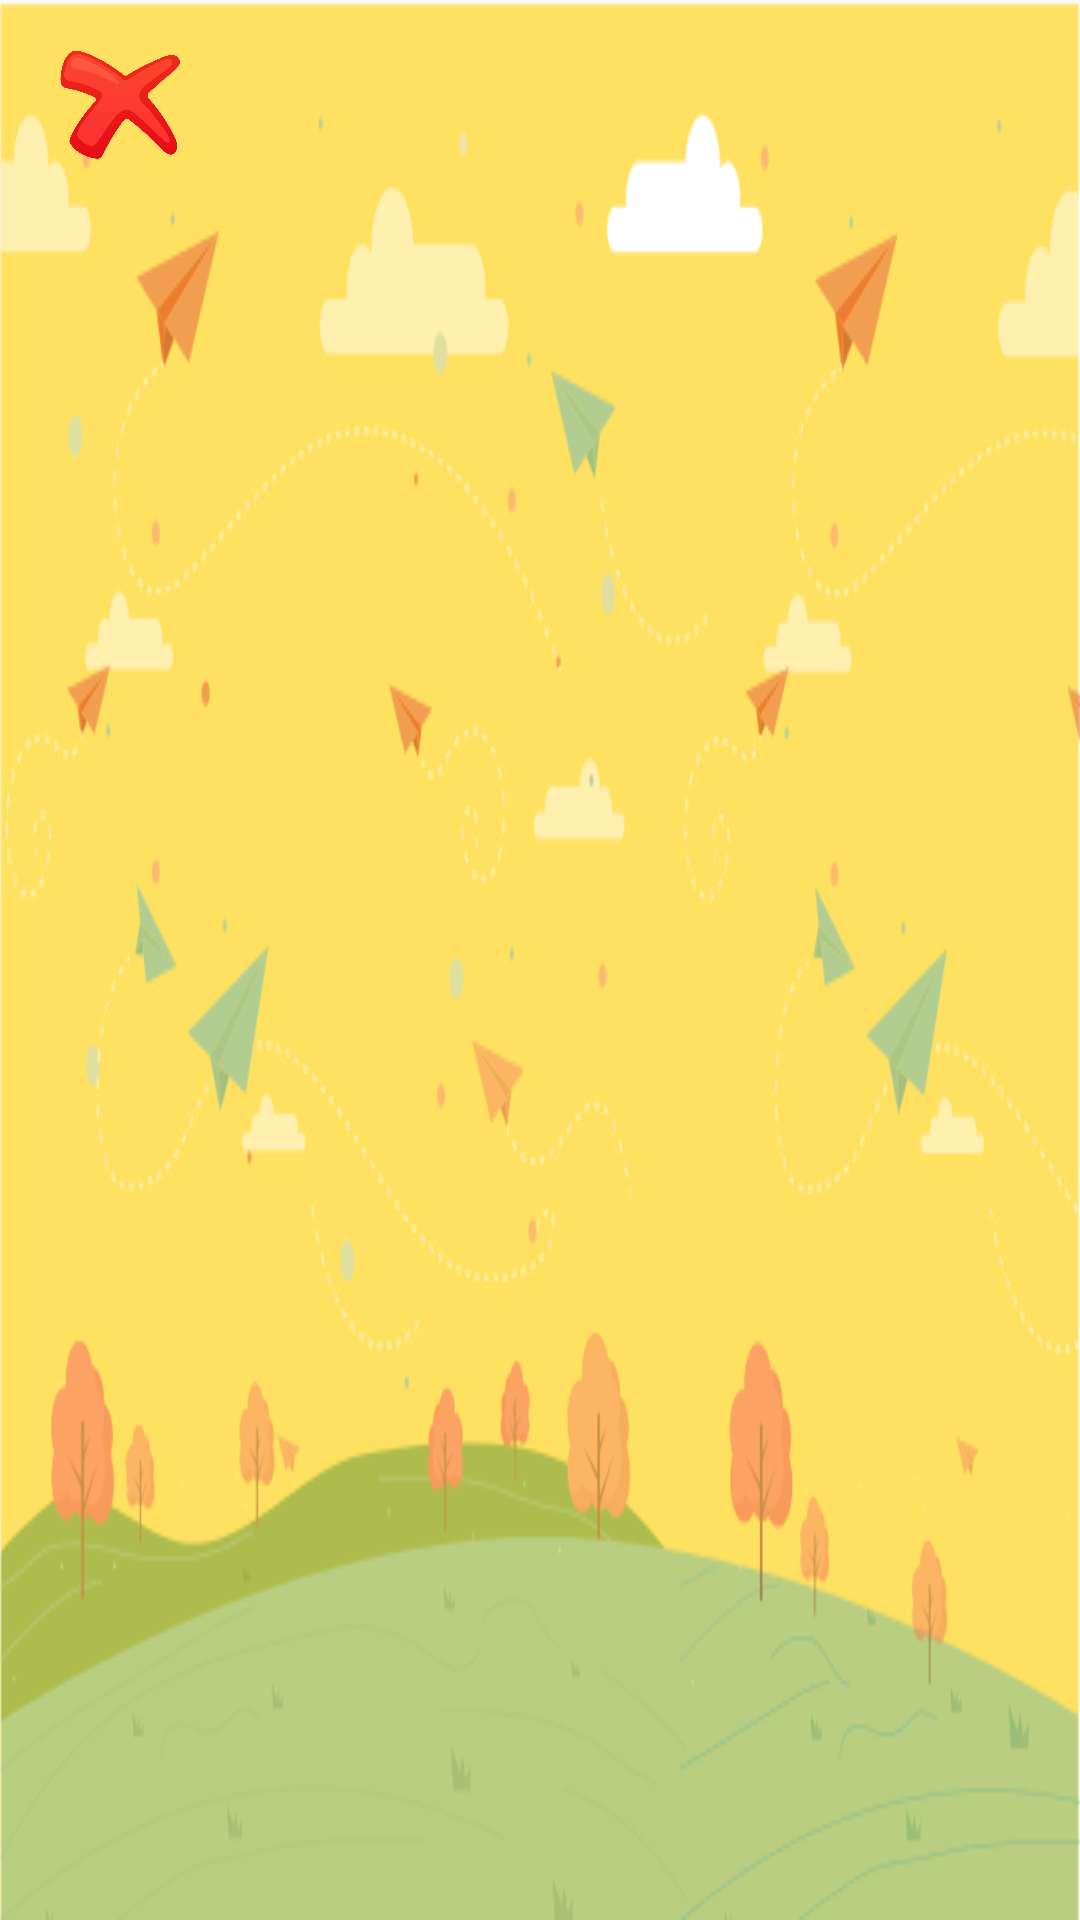

Where icons sit on this 1080px×1920px app screen, as (x1, y1, x2, y2):
close: (60, 51, 180, 165)
